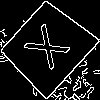X: (23, 23, 79, 78)
